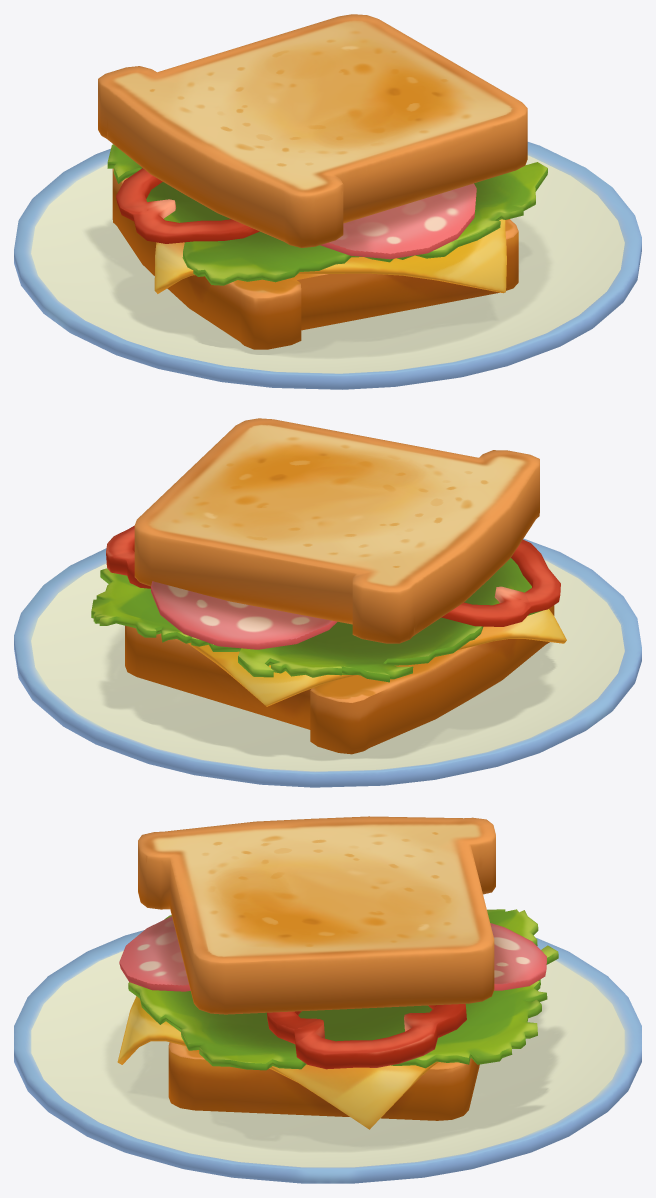
File: sandwich.glb
3 renders of one model, top to bottom at view 1: azimuth 30°, elevation 25°; view 2: azimuth 150°, elevation 25°; view 3: azimuth 270°, elevation 25°, orthographic.
Parts seen in each view (by area): view 1: Vert, Cylinder; view 2: Vert, Cylinder; view 3: Vert, Cylinder.
Boxes of the visible parts, left/top/right/bottom form: Vert: left=98, top=14, right=547, bottom=349; Cylinder: left=14, top=142, right=641, bottom=389; Vert: left=91, top=418, right=566, bottom=754; Cylinder: left=14, top=538, right=641, bottom=787; Vert: left=117, top=816, right=558, bottom=1129; Cylinder: left=14, top=930, right=641, bottom=1183.
Size of the model in its own units: 4.16 by 1.3 by 4.16.
Materials: 2 (2 with a texture image).
